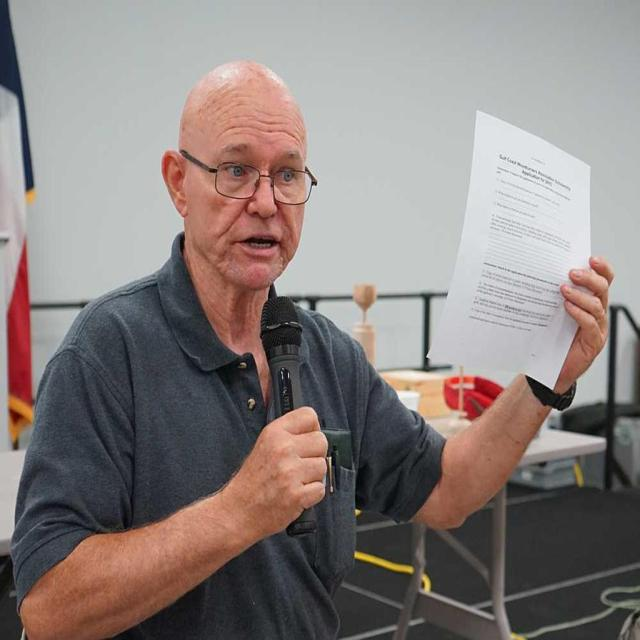Face: (177, 74, 328, 292)
